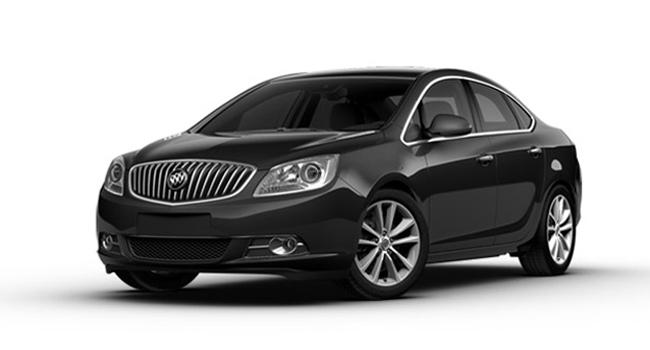car: (96, 69, 584, 303)
